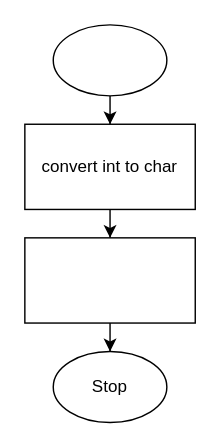
Image size: 220x447. Some labels were removed from this diagram. Here are the shapes that lost their labels. From the top down, the centre of each, then its label:
At (x=109, y=59): "Start".
At (x=109, y=279): "str char at current ptr".
